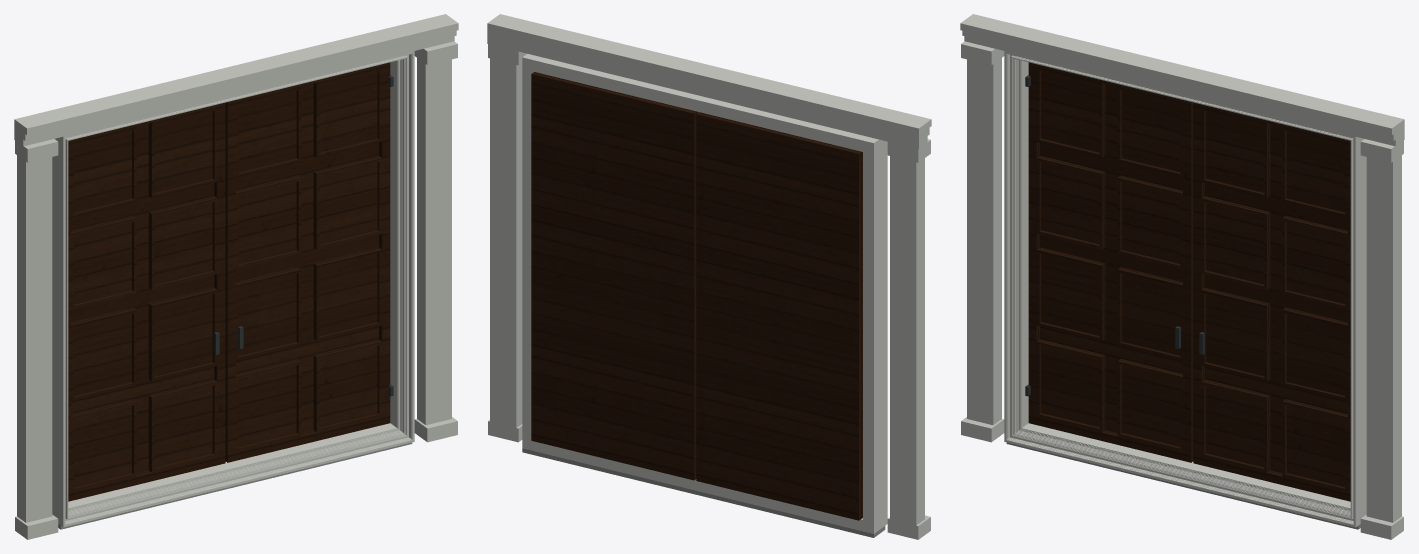
Rendered from republicano_rectangle_porton.glb.
3 renders of one model, left to right at view 1: azimuth 30°, elevation 25°; view 2: azimuth 150°, elevation 25°; view 3: azimuth 330°, elevation 25°, orthographic.
Parts seen in each view (by area): view 1: door_pilaster#0001, door_pilaster#0002, door_panel_back#0001, door_panel_back#0002, door_leaf_frame#0002, door_portal_cornice#0003, door_leaf_frame#0001, door_reveal#0001, door_moulding#0028, door_coffer#0014, door_coffer#0015, door_coffer#0006 (+62 smaller); view 2: door_panel_back#0002, door_panel_back#0001, door_reveal#0001, door_pilaster#0001, door_pilaster#0002, door_leaf_frame#0001, door_leaf_frame#0002, door_portal_cornice#0003, door_portal_cornice#0002, door_portal_cornice#0001, door_moulding#0028, door_threshold#0001; view 3: door_pilaster#0002, door_pilaster#0001, door_panel_back#0002, door_panel_back#0001, door_leaf_frame#0001, door_portal_cornice#0003, door_leaf_frame#0002, door_reveal#0001, door_moulding#0028, door_coffer#0002, door_coffer#0003, door_coffer#0010 (+62 smaller).
Part boxes in pixels (x1=…): door_pilaster#0001: x1=17, y1=155, x2=52, y2=522; door_pilaster#0002: x1=417, y1=58, x2=451, y2=424; door_panel_back#0001: x1=71, y1=124, x2=214, y2=472; door_panel_back#0002: x1=236, y1=83, x2=378, y2=432; door_leaf_frame#0002: x1=225, y1=62, x2=390, y2=462; door_portal_cornice#0003: x1=14, y1=14, x2=458, y2=135; door_leaf_frame#0001: x1=68, y1=102, x2=225, y2=501; door_reveal#0001: x1=52, y1=61, x2=395, y2=515; door_moulding#0028: x1=54, y1=51, x2=414, y2=527; door_coffer#0014: x1=313, y1=247, x2=379, y2=339; door_coffer#0015: x1=313, y1=156, x2=379, y2=247; door_coffer#0006: x1=148, y1=288, x2=214, y2=379; door_panel_back#0002: x1=539, y1=84, x2=685, y2=469; door_panel_back#0001: x1=704, y1=125, x2=850, y2=509; door_reveal#0001: x1=522, y1=54, x2=879, y2=533; door_pilaster#0001: x1=890, y1=142, x2=924, y2=539; door_pilaster#0002: x1=490, y1=44, x2=522, y2=441; door_leaf_frame#0001: x1=696, y1=112, x2=862, y2=520; door_leaf_frame#0002: x1=531, y1=72, x2=698, y2=480; door_portal_cornice#0003: x1=487, y1=14, x2=931, y2=135; door_portal_cornice#0002: x1=487, y1=30, x2=929, y2=142; door_portal_cornice#0001: x1=487, y1=37, x2=927, y2=148; door_moulding#0028: x1=880, y1=140, x2=887, y2=529; door_threshold#0001: x1=522, y1=448, x2=885, y2=537; door_pilaster#0002: x1=1366, y1=155, x2=1401, y2=522; door_pilaster#0001: x1=967, y1=58, x2=1001, y2=424; door_panel_back#0002: x1=1204, y1=124, x2=1347, y2=472; door_panel_back#0001: x1=1040, y1=83, x2=1182, y2=432; door_leaf_frame#0001: x1=1028, y1=62, x2=1193, y2=462; door_portal_cornice#0003: x1=960, y1=14, x2=1404, y2=135; door_leaf_frame#0002: x1=1193, y1=102, x2=1350, y2=501; door_reveal#0001: x1=1023, y1=61, x2=1366, y2=516; door_moulding#0028: x1=1004, y1=51, x2=1363, y2=527; door_coffer#0002: x1=1039, y1=247, x2=1105, y2=339; door_coffer#0003: x1=1039, y1=156, x2=1105, y2=247; door_coffer#0010: x1=1204, y1=288, x2=1270, y2=379.
Bounding box in the file's own units: 3.93 × 3.62 × 0.325.
Materials: 5 (1 with a texture image).
